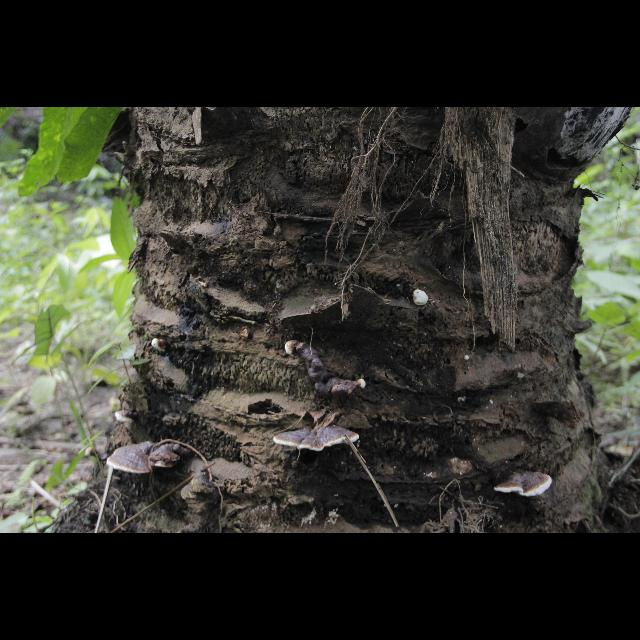ganoderma: (299, 342, 358, 402), (273, 425, 361, 454), (108, 442, 157, 475), (495, 472, 554, 499), (152, 445, 193, 470), (116, 411, 141, 424)
primordium: (414, 291, 431, 308), (152, 340, 169, 353), (285, 341, 297, 356), (85, 448, 98, 460), (357, 380, 367, 391), (466, 356, 471, 363)
